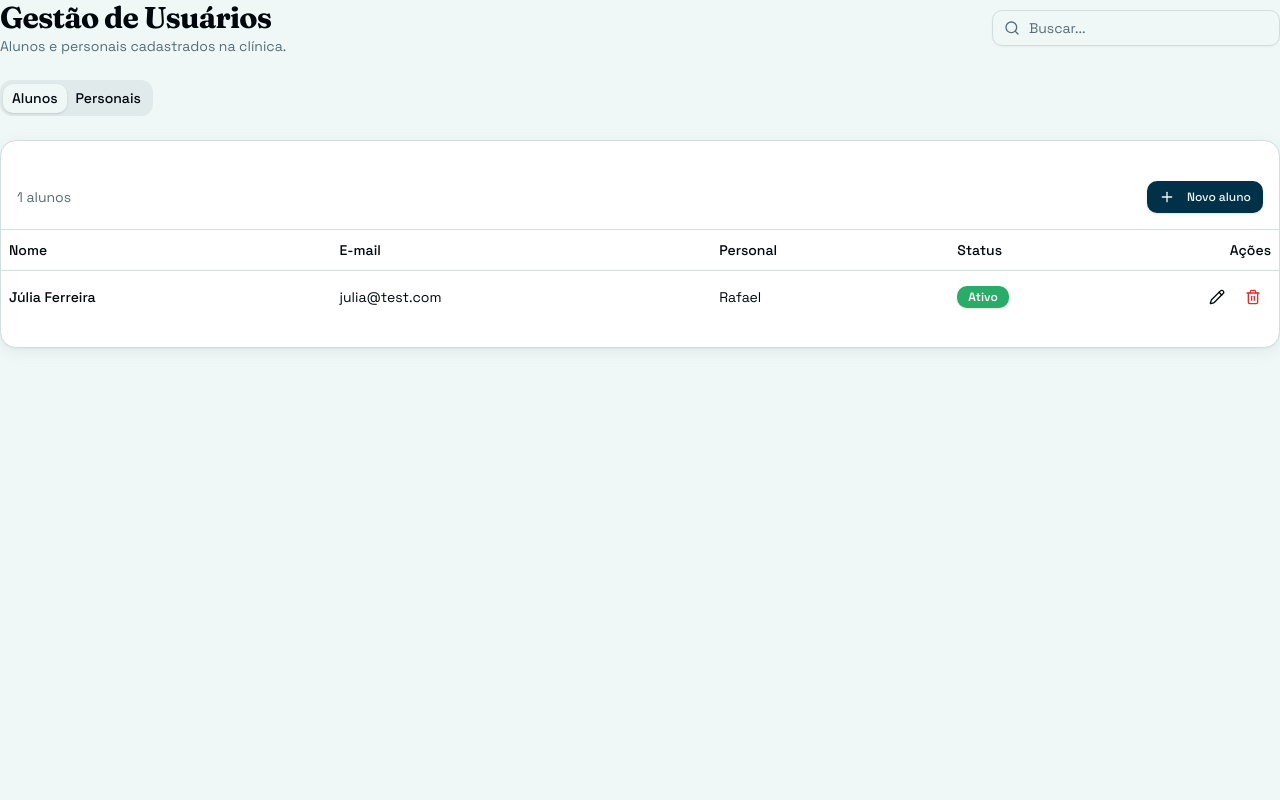
Test: UsuariosPage — AlunosTab › campo Treinos contratados por ciclo (feature flag) › shows the field in Cadastrar aluno when the attendanceCycles flag is on
Expected: the text "Júlia Ferreira" is shown, x1=9 y1=288 x2=96 y2=306
Step 1. Click the button "Novo aluno" → [1205, 197], box x1=1147 y1=181 x2=1263 y2=213
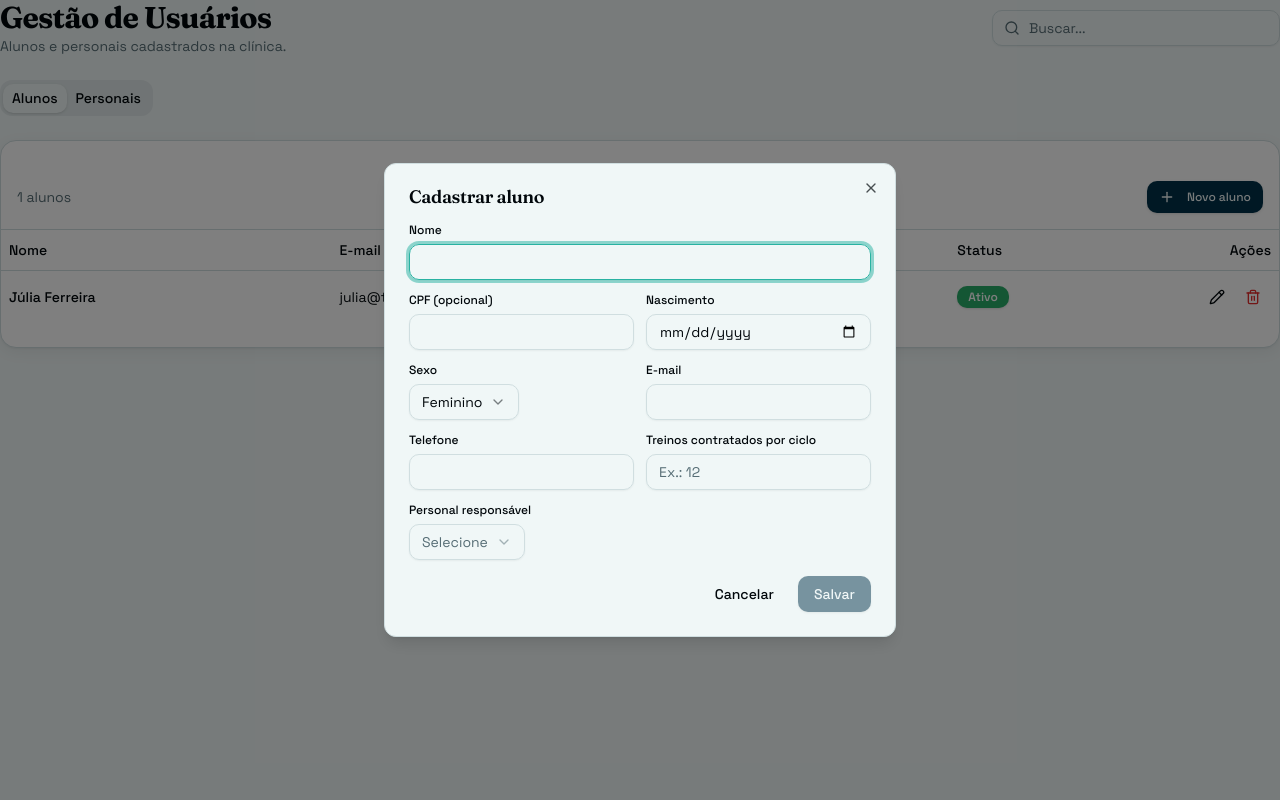
Expected: the text "Treinos contratados por ciclo" is shown, x1=646 y1=432 x2=816 y2=448
